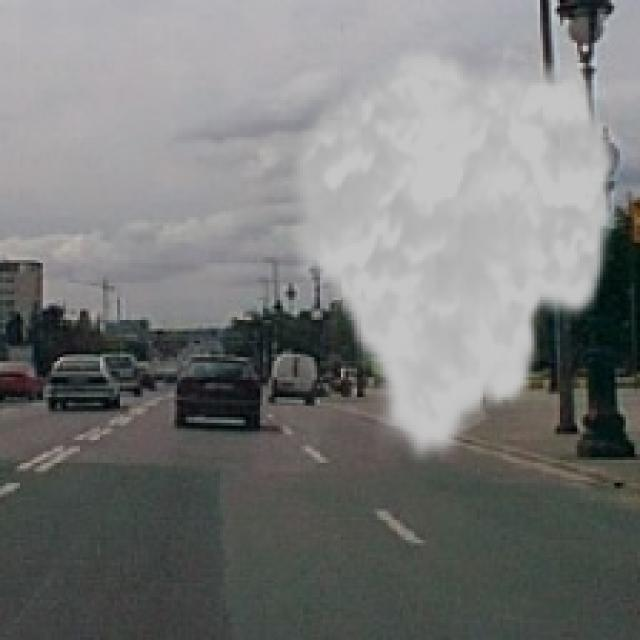smoke: (280, 43, 623, 468)
